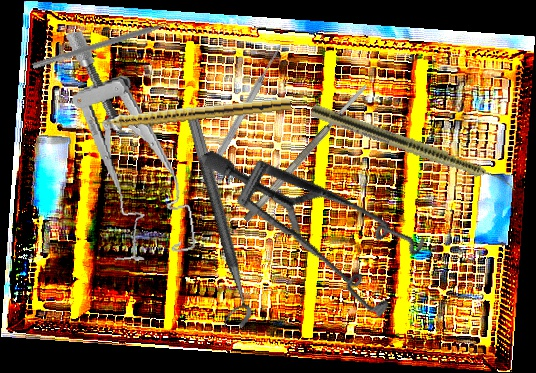Fixation Ring: (169, 116, 256, 332)
Handpiece: (308, 102, 523, 195), (89, 93, 292, 132)
Pusher: (200, 42, 285, 186)
Spatula Surgical: (242, 82, 370, 224), (31, 15, 183, 76)
Speculum: (199, 85, 446, 357), (62, 19, 199, 267)
